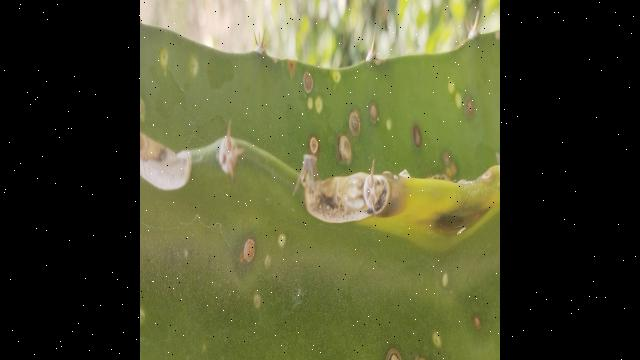stemcanker: (335, 128, 357, 170), (408, 110, 429, 150), (442, 77, 464, 112), (363, 94, 385, 128), (346, 99, 364, 140), (240, 234, 261, 266), (439, 146, 460, 175), (299, 66, 317, 97), (426, 326, 446, 353), (272, 230, 293, 254), (302, 93, 326, 114), (436, 270, 456, 292), (248, 290, 267, 311), (307, 132, 322, 158), (470, 314, 488, 334), (330, 68, 343, 85), (385, 116, 394, 136)
